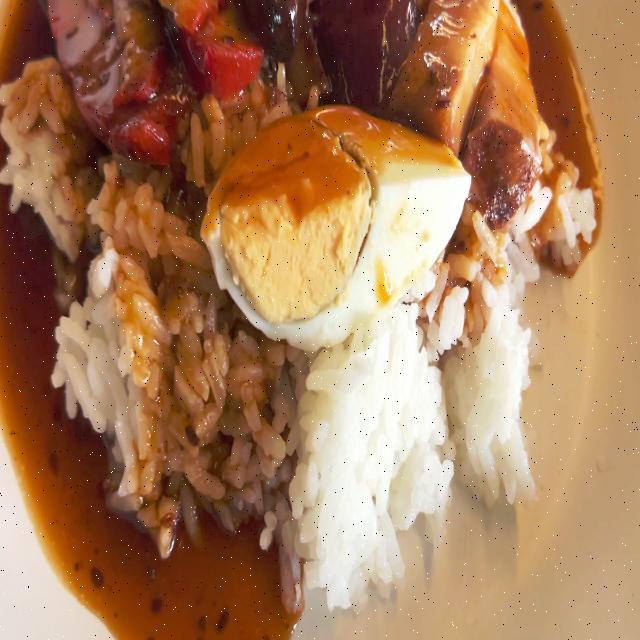boiled_egg: (209, 111, 466, 327)
chainese_sausage: (236, 0, 421, 96), (314, 0, 409, 103), (251, 0, 316, 68)
crispy_pork: (391, 0, 540, 208), (390, 0, 505, 131), (470, 0, 544, 203)
red_pork: (50, 0, 259, 164), (61, 0, 187, 161), (52, 0, 161, 103), (164, 0, 264, 104), (155, 0, 209, 41)
red_pork_and_crispy_pork: (0, 0, 596, 606)
rice: (291, 279, 530, 591), (49, 168, 251, 514), (0, 44, 67, 246), (535, 174, 598, 264)
